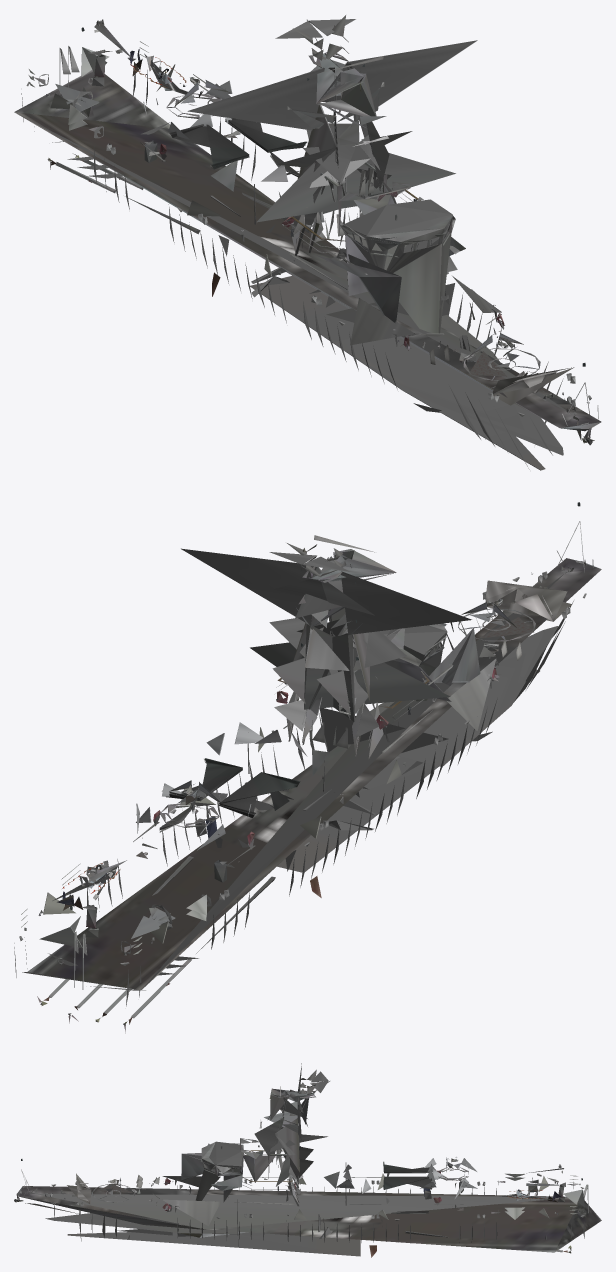
File: navy_patrol_lod1.glb
The picture shows the model from 3 angles, top to bottom: view 1: azimuth 30°, elevation 25°; view 2: azimuth 150°, elevation 25°; view 3: azimuth 270°, elevation 25°; orthographic projection. The views are drawn at different scales.
Visible parts, largest first — view 1: navy_patrol; view 2: navy_patrol; view 3: navy_patrol.
Boxes of the visible parts, x1=… form: navy_patrol: x1=14, y1=15, x2=601, y2=470; navy_patrol: x1=14, y1=502, x2=601, y2=1033; navy_patrol: x1=14, y1=1063, x2=601, y2=1257.
Bounding box in the file's own units: 17.57 × 17.81 × 55.19.
Materials: 12 (12 with a texture image).
